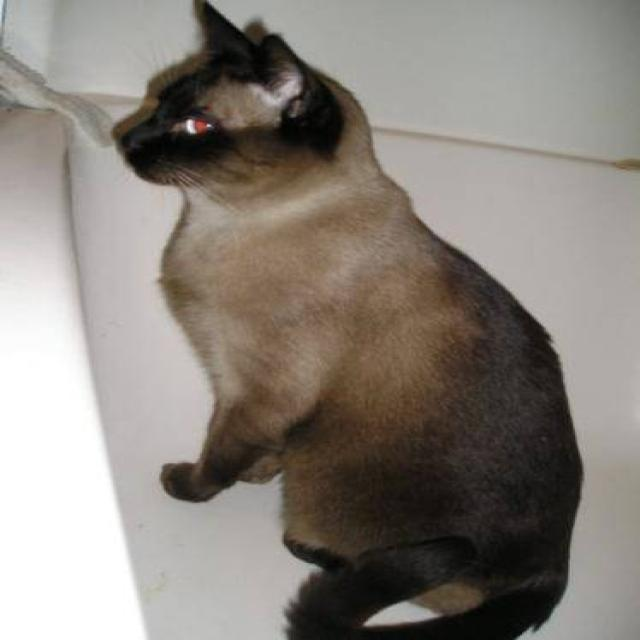cat: (110, 0, 585, 639)
